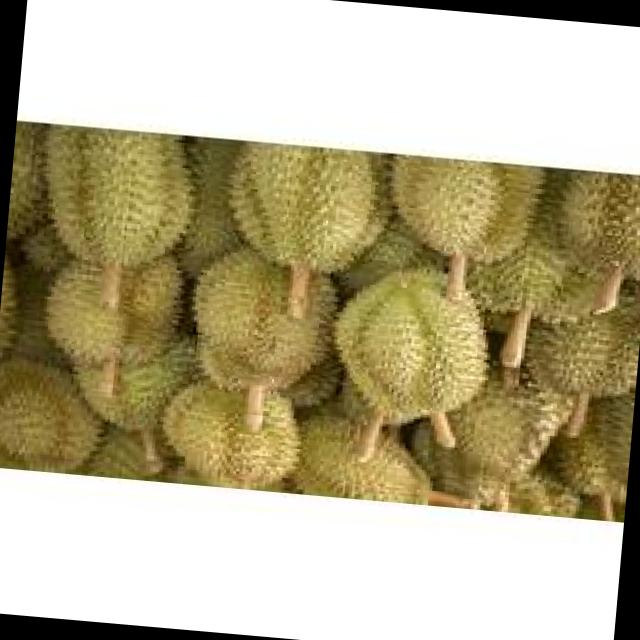fruit: (20, 130, 224, 444), (321, 234, 508, 443)
